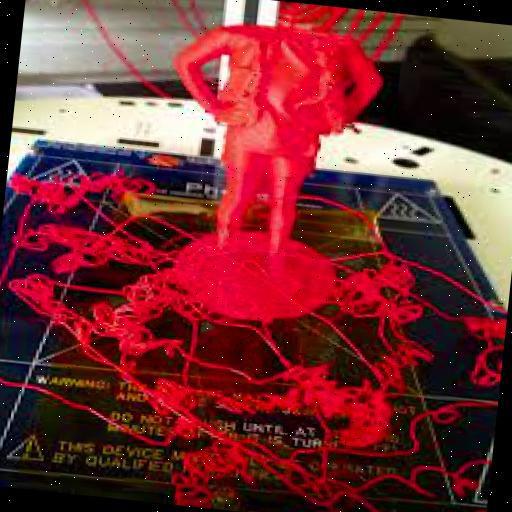spaghetti: (0, 149, 473, 512)
